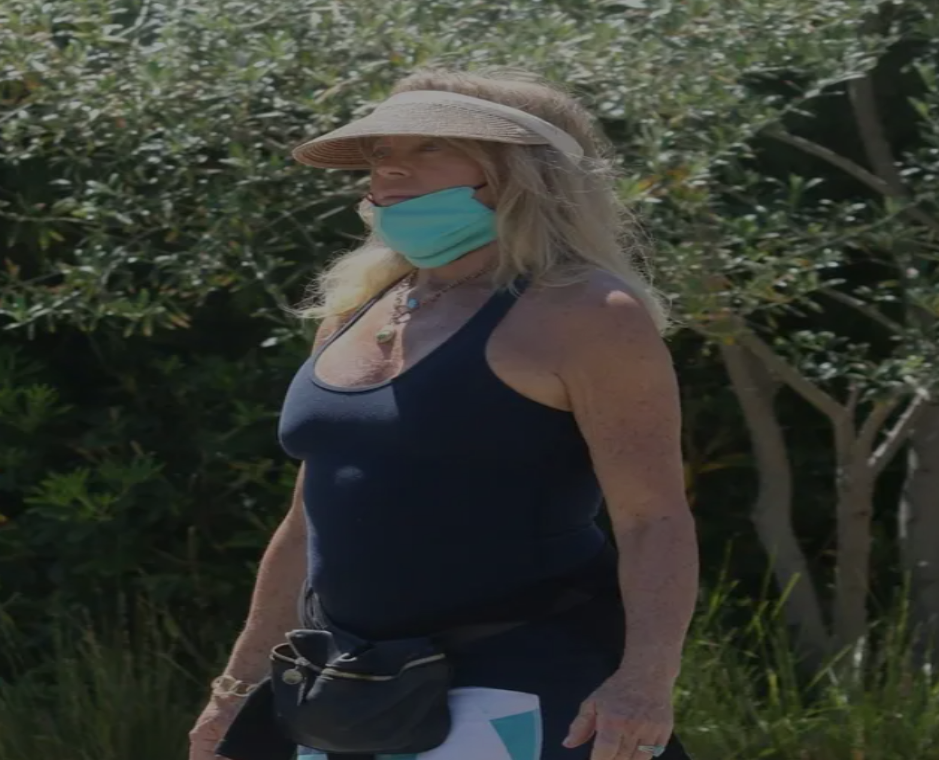mask_weared_incorrect: (307, 72, 600, 275)
